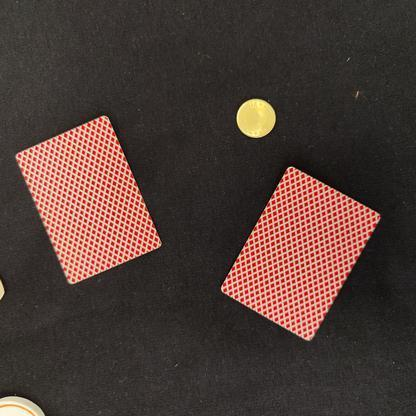card: (207, 150, 394, 355), (4, 109, 175, 291)
